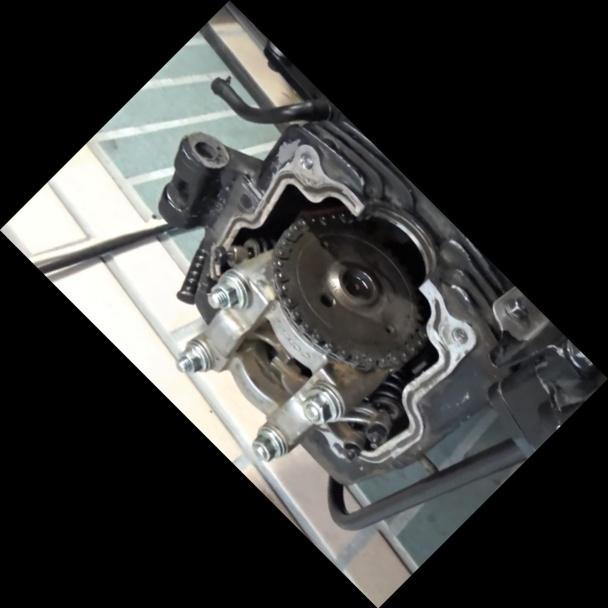hole: (448, 323, 472, 347), (295, 149, 317, 171)
